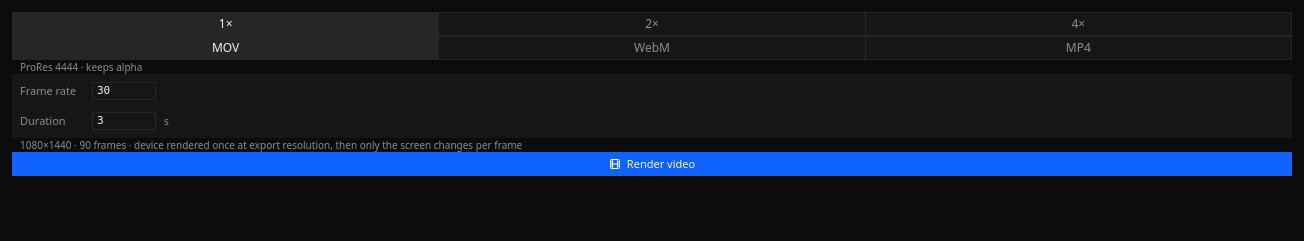
VideoExport › xong thì có nút tải về kèm số đo thật
Click the button "Render video": (652, 164) 12,152 -> 1292,176
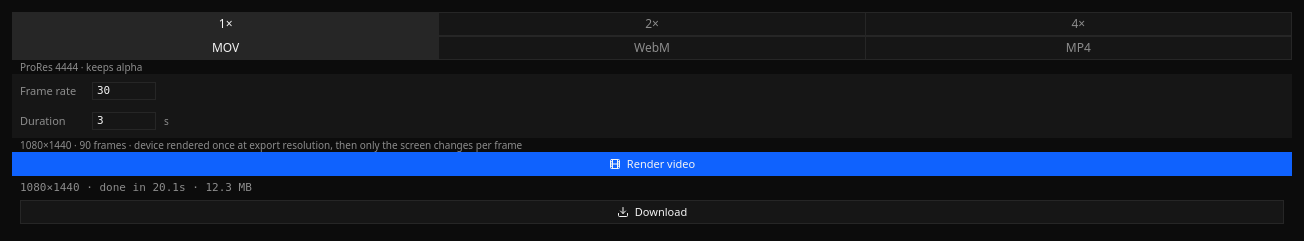
Now the element with test id "video-output" is shown, box 12,176 -> 1292,224
Now the text "1080×1440 · done in 20.1s · 12.3 MB" is shown, box 20,181 -> 252,194
Now the button "Download" is shown, box 20,200 -> 1284,224
